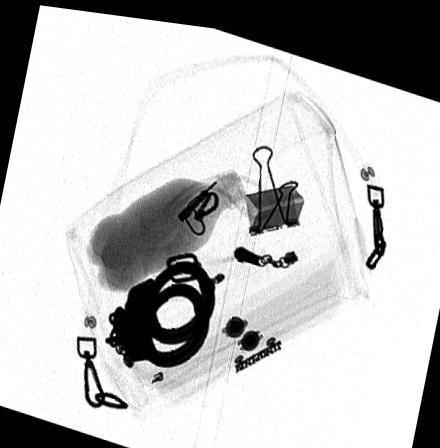HandCuffs: (103, 247, 216, 362)
